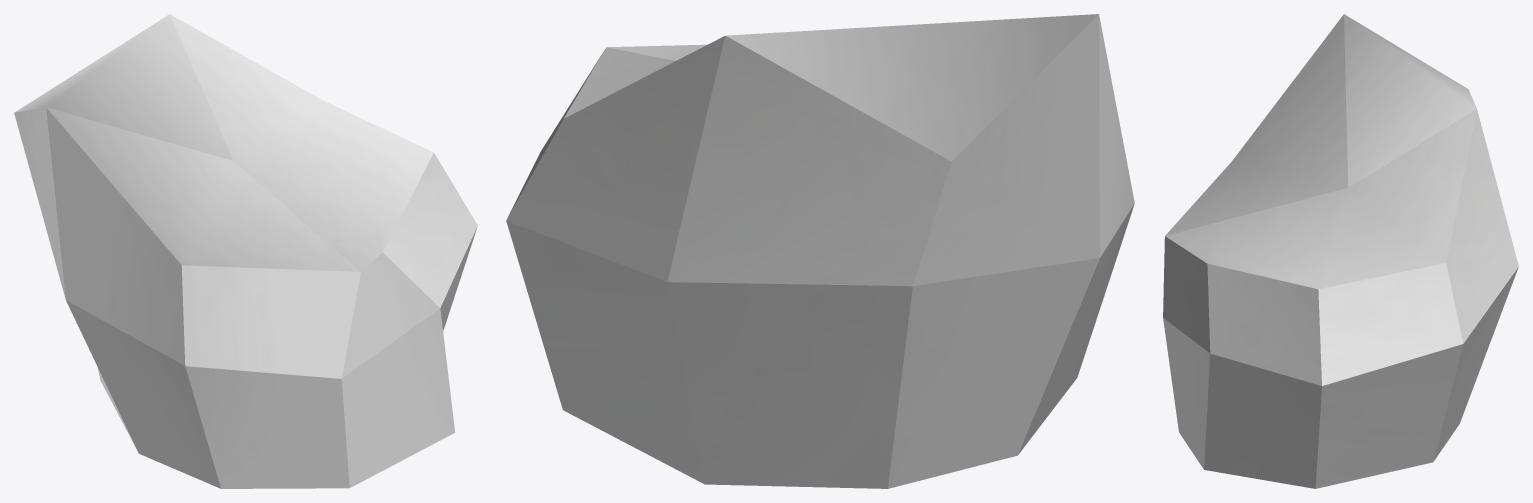
Rendered from Env_Rock_3_model.fbx.
3 views of the same model, side by side, from view 1: azimuth 30°, elevation 25°; view 2: azimuth 150°, elevation 25°; view 3: azimuth 270°, elevation 25° (orthographic). The views are drawn at different scales.
Visible parts, largest first — view 1: Env_Rock_03; view 2: Env_Rock_03; view 3: Env_Rock_03.
Part boxes in pixels (left/top/right/bottom): Env_Rock_03: left=14, top=14, right=477, bottom=488; Env_Rock_03: left=506, top=14, right=1134, bottom=488; Env_Rock_03: left=1163, top=14, right=1518, bottom=488.
Bounding box in the file's own units: 4.93 × 4.3 × 4.06.
